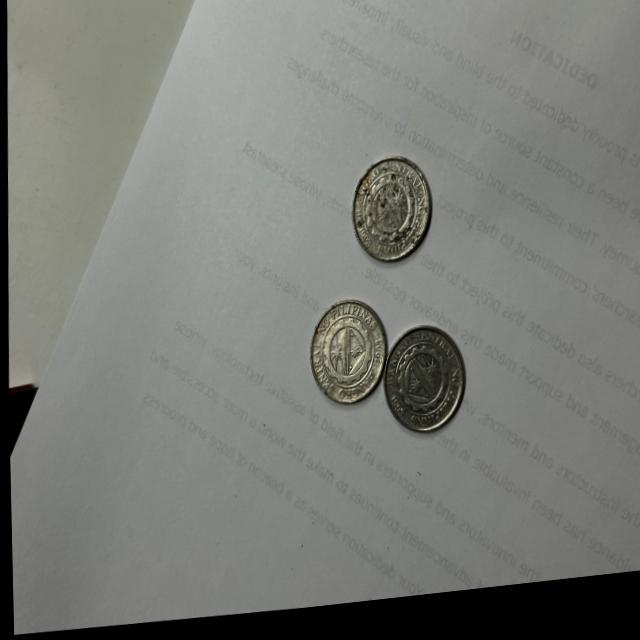1_Old_Back: (355, 172, 418, 259), (388, 349, 448, 431), (312, 322, 374, 400)
